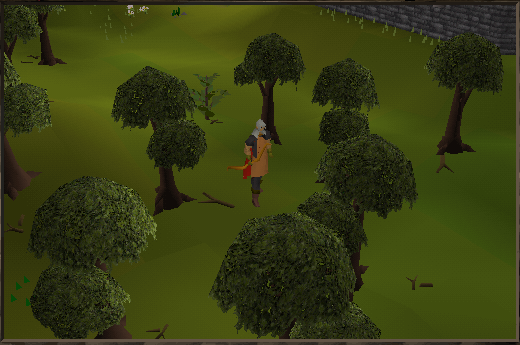Tree: (100, 63, 208, 214), (426, 29, 506, 157), (232, 35, 297, 141)
